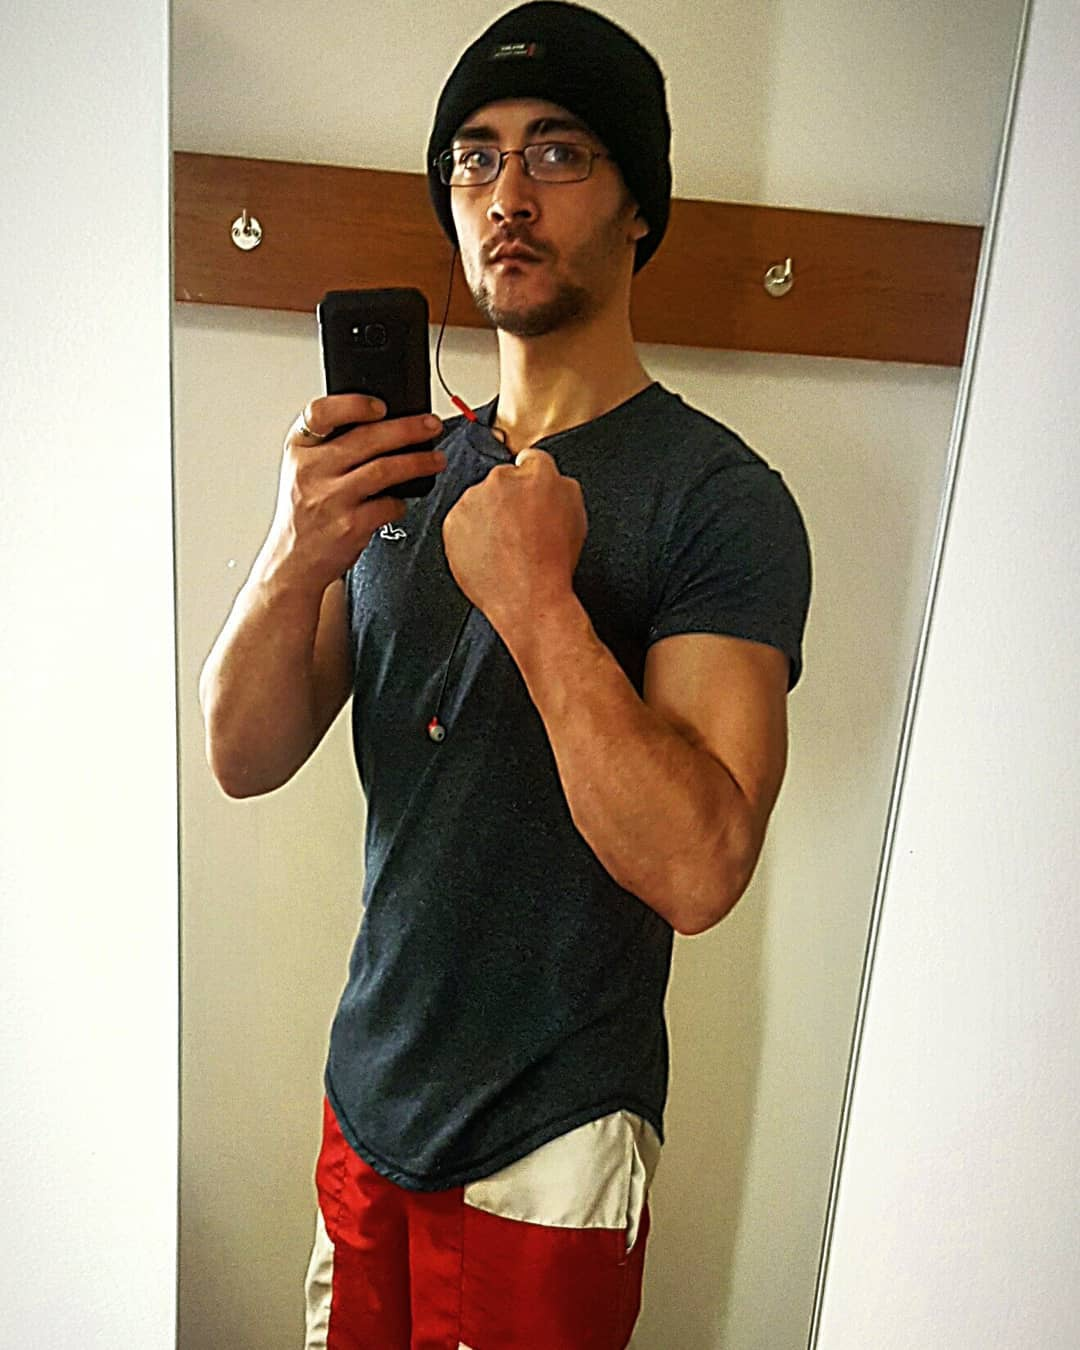hand: (443, 453, 573, 620)
